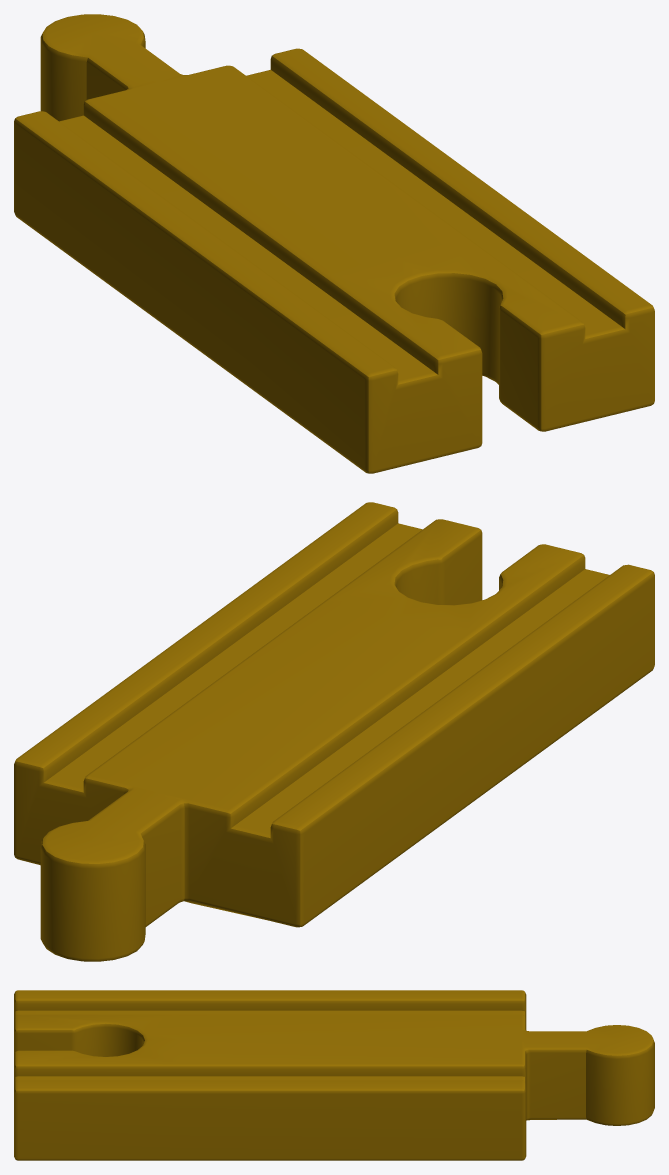
The model's file is Railway_straight_s.fbx.
3 views of the same model, one above another, from view 1: azimuth 30°, elevation 25°; view 2: azimuth 150°, elevation 25°; view 3: azimuth 270°, elevation 25° (orthographic). The views are drawn at different scales.
Visible parts, largest first — view 1: Railway_straight_s; view 2: Railway_straight_s; view 3: Railway_straight_s.
Boxes of the visible parts, x1,y1,x2,y2 form: Railway_straight_s: (14, 14, 654, 473); Railway_straight_s: (14, 502, 654, 961); Railway_straight_s: (14, 990, 654, 1160).
Size of the model in its own units: 74.88 by 25.07 by 200.
